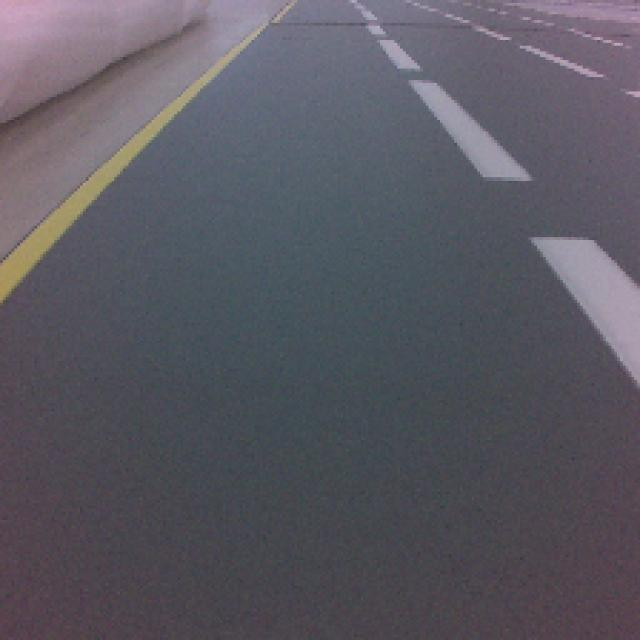Road: (0, 334, 633, 635)
